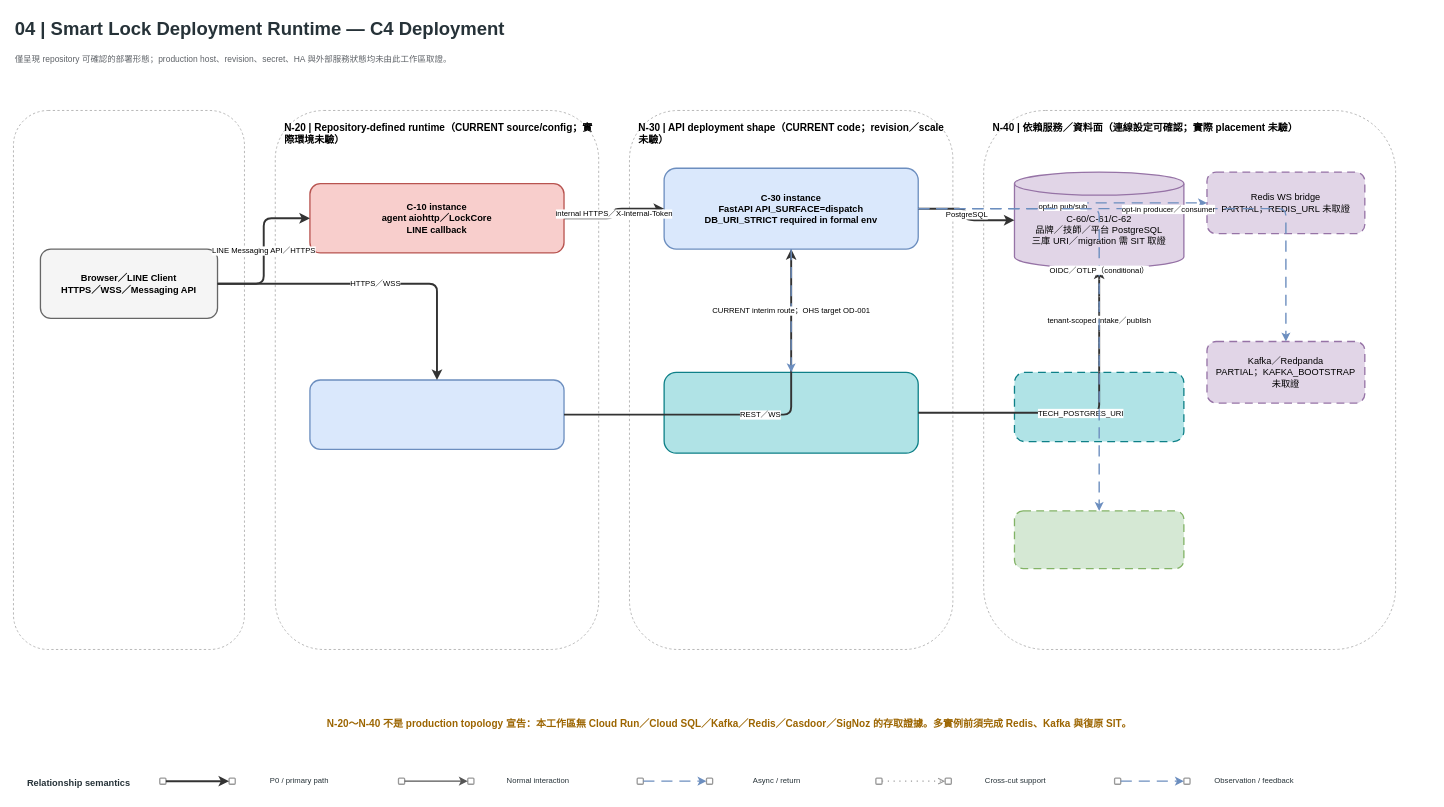
The diagram is 1444 pixels wide and 807 high, and some of its shapes have lost their labels. Here are the shapes that lost their labels. From the top down, the box of each, then its label:
(13, 110, 244, 649): N-10 | 外部信任區（CURRENT interface）
(309, 379, 564, 450): C-20 instance brand／tech／platform Next.js portals
(663, 371, 919, 453): C-40 instance FastAPI API_SURFACE=tech 共用 codebase；獨立 stack config
(1013, 371, 1184, 442): Knowledge Refinery PARTIAL；schedule／OIDC／OTel 未取證
(1013, 510, 1184, 569): Casdoor／SigNoz PARTIAL；HA／collector 未取證
